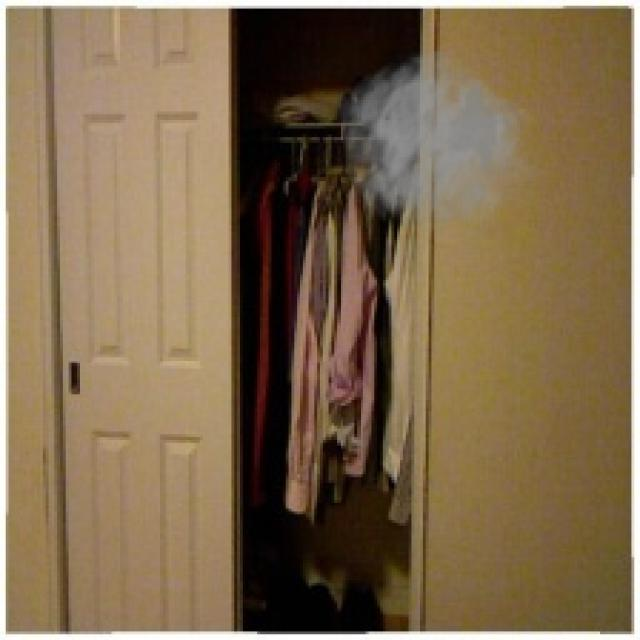smoke: (334, 48, 540, 248)
